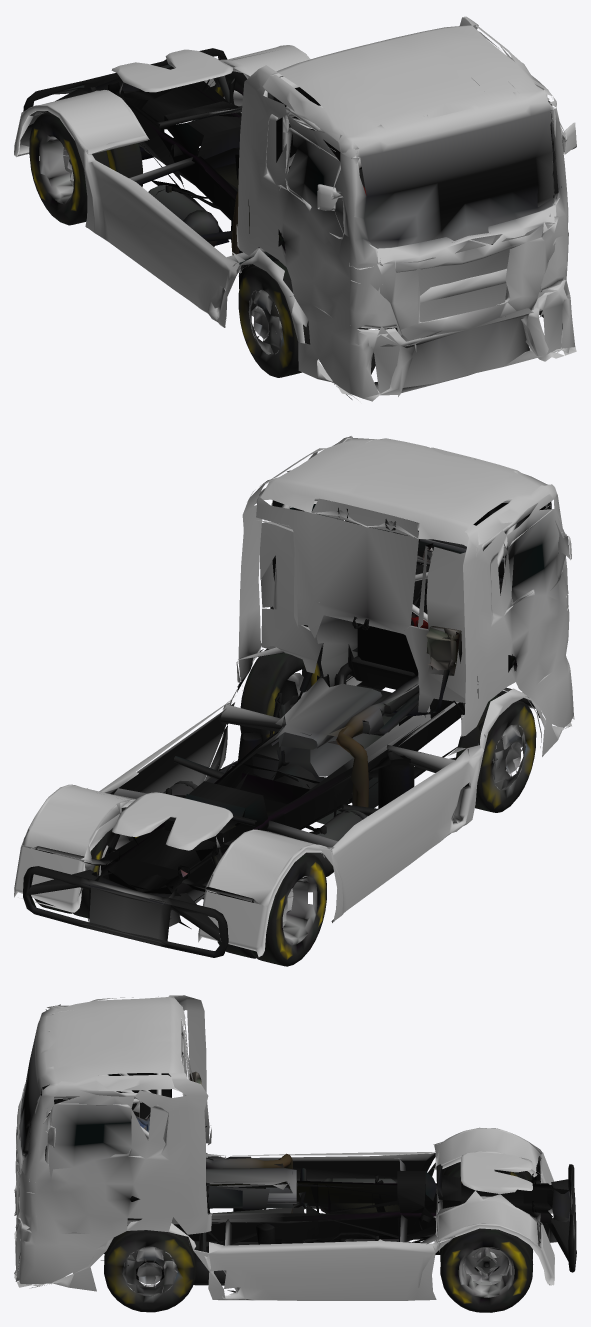
The model's file is man_lo.glb.
The picture shows the model from 3 angles, top to bottom: view 1: azimuth 30°, elevation 25°; view 2: azimuth 150°, elevation 25°; view 3: azimuth 270°, elevation 25°; orthographic projection. The views are drawn at different scales.
Parts seen in each view (by area): view 1: body_q, wRR_q, wFR_q, wRL_q; view 2: body_q, wFR_q, wRR_q, wFL_q, wRL_q; view 3: body_q, wRL_q, wFL_q.
Part boxes in pixels (x1,y1,x2,y2): body_q: (14, 16, 576, 401); wRR_q: (29, 112, 142, 225); wFR_q: (238, 260, 310, 377); wRL_q: (214, 71, 246, 112); body_q: (14, 436, 574, 957); wFR_q: (455, 695, 536, 812); wRR_q: (217, 852, 326, 966); wFL_q: (240, 648, 320, 741); wRL_q: (34, 808, 138, 918); body_q: (14, 995, 576, 1300); wRL_q: (440, 1228, 533, 1312); wFL_q: (104, 1225, 196, 1312).
Bounding box in the file's own units: 2.54 × 2.74 × 5.97.
